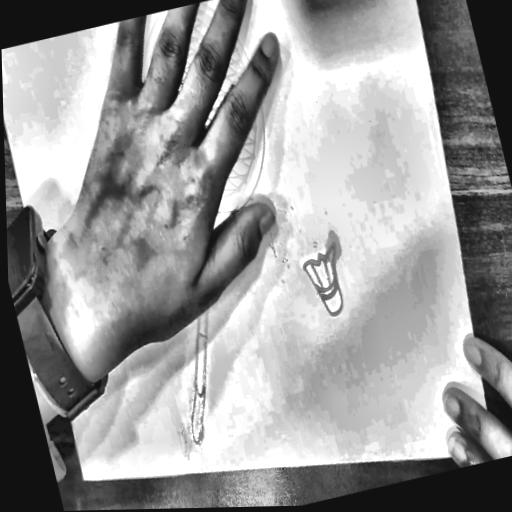badminton: (85, 0, 389, 478)
bottom_left: (77, 469, 88, 485)
bottom_right: (487, 442, 499, 456)
